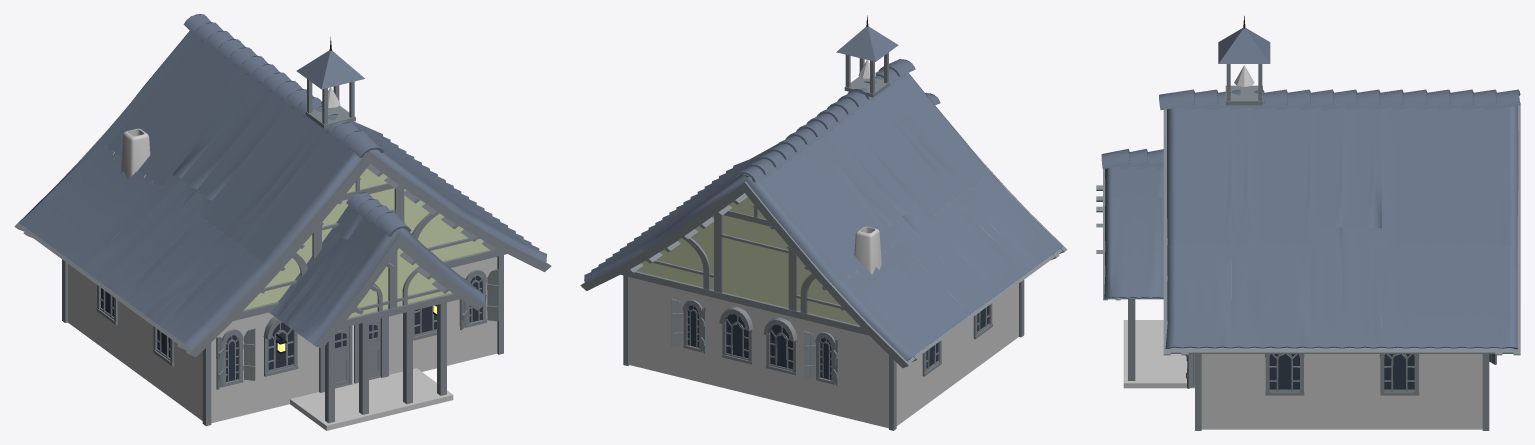
The model's file is meeting_hall.gltf.
The picture shows the model from 3 angles, left to right: view 1: azimuth 30°, elevation 25°; view 2: azimuth 150°, elevation 25°; view 3: azimuth 270°, elevation 25°; orthographic projection. The views are drawn at different scales.
Visible parts, largest first — view 1: Roof_RoundTiles_8x10.045, Roof_RoundTiles_4x4.054, Roof_Front_Brick8.046, PorchFloor.048, Roof_Front_Brick4.055, Wall_UnevenBrick_Window_Thin_Round.012, Wall_UnevenBrick_Window_Wide_Round.004, Wall_UnevenBrick_Window_Thin_Round.001, Wall_UnevenBrick_Straight.030, Wall_UnevenBrick_Straight.027, Window_Wide_Round1.005, Wall_UnevenBrick_Door_Round.006 (+23 smaller); view 2: Roof_RoundTiles_8x10.045, Roof_Front_Brick8.047, Wall_UnevenBrick_Straight.015, Wall_UnevenBrick_Straight.026, Wall_UnevenBrick_Window_Wide_Round.021, Wall_UnevenBrick_Window_Thin_Round.016, Wall_UnevenBrick_Window_Wide_Round.019, Wall_UnevenBrick_Window_Thin_Round.023, Window_Wide_Round1.020, Window_Wide_Round1.022, Wall_UnevenBrick_Straight.030, Wall_UnevenBrick_Straight.033 (+14 smaller); view 3: Roof_RoundTiles_8x10.045, Roof_RoundTiles_4x4.054, Wall_UnevenBrick_Straight.037, Wall_UnevenBrick_Straight.034, Wall_UnevenBrick_Straight.040, PorchFloor.048, Wall_UnevenBrick_Window_Wide_Round.035, Wall_UnevenBrick_Window_Wide_Round.038, Window_Wide_Round1.039, Window_Wide_Round1.036, CoteRoof.062, Beam.052 (+3 smaller).
Part boxes in pixels (x1=…): Roof_RoundTiles_8x10.045: x1=14, y1=14, x2=551, y2=356; Roof_RoundTiles_4x4.054: x1=269, y1=192, x2=486, y2=348; Roof_Front_Brick8.046: x1=233, y1=164, x2=506, y2=320; PorchFloor.048: x1=290, y1=368, x2=453, y2=430; Roof_Front_Brick4.055: x1=339, y1=248, x2=460, y2=328; Wall_UnevenBrick_Window_Thin_Round.012: x1=450, y1=256, x2=497, y2=364; Wall_UnevenBrick_Window_Wide_Round.004: x1=256, y1=312, x2=304, y2=412; Wall_UnevenBrick_Window_Thin_Round.001: x1=211, y1=315, x2=255, y2=423; Wall_UnevenBrick_Straight.030: x1=122, y1=304, x2=150, y2=382; Wall_UnevenBrick_Straight.027: x1=68, y1=264, x2=94, y2=341; Window_Wide_Round1.005: x1=263, y1=316, x2=298, y2=376; Wall_UnevenBrick_Door_Round.006: x1=304, y1=313, x2=401, y2=395; Roof_RoundTiles_8x10.045: x1=580, y1=59, x2=1067, y2=368; Roof_Front_Brick8.047: x1=620, y1=193, x2=868, y2=335; Wall_UnevenBrick_Straight.015: x1=629, y1=277, x2=671, y2=375; Wall_UnevenBrick_Straight.026: x1=848, y1=330, x2=888, y2=428; Wall_UnevenBrick_Window_Wide_Round.021: x1=759, y1=308, x2=804, y2=407; Wall_UnevenBrick_Window_Thin_Round.016: x1=671, y1=287, x2=715, y2=385; Wall_UnevenBrick_Window_Wide_Round.019: x1=715, y1=298, x2=759, y2=396; Wall_UnevenBrick_Window_Thin_Round.023: x1=803, y1=319, x2=848, y2=418; Window_Wide_Round1.020: x1=719, y1=306, x2=752, y2=364; Window_Wide_Round1.022: x1=763, y1=317, x2=797, y2=375; Wall_UnevenBrick_Straight.030: x1=944, y1=320, x2=969, y2=391; Wall_UnevenBrick_Straight.033: x1=995, y1=283, x2=1018, y2=353; Roof_RoundTiles_8x10.045: x1=1159, y1=89, x2=1520, y2=355; Roof_RoundTiles_4x4.054: x1=1101, y1=149, x2=1163, y2=300; Wall_UnevenBrick_Straight.037: x1=1313, y1=354, x2=1370, y2=429; Wall_UnevenBrick_Straight.034: x1=1201, y1=354, x2=1255, y2=429; Wall_UnevenBrick_Straight.040: x1=1428, y1=354, x2=1482, y2=429; PorchFloor.048: x1=1123, y1=320, x2=1194, y2=388; Wall_UnevenBrick_Window_Wide_Round.035: x1=1256, y1=354, x2=1313, y2=429; Wall_UnevenBrick_Window_Wide_Round.038: x1=1371, y1=354, x2=1428, y2=429; Window_Wide_Round1.039: x1=1379, y1=354, x2=1419, y2=395; Window_Wide_Round1.036: x1=1265, y1=354, x2=1304, y2=395; CoteRoof.062: x1=1218, y1=28, x2=1270, y2=63; Beam.052: x1=1128, y1=299, x2=1135, y2=380.
Bounding box in the file's own units: 14.93 × 13.16 × 14.75.
